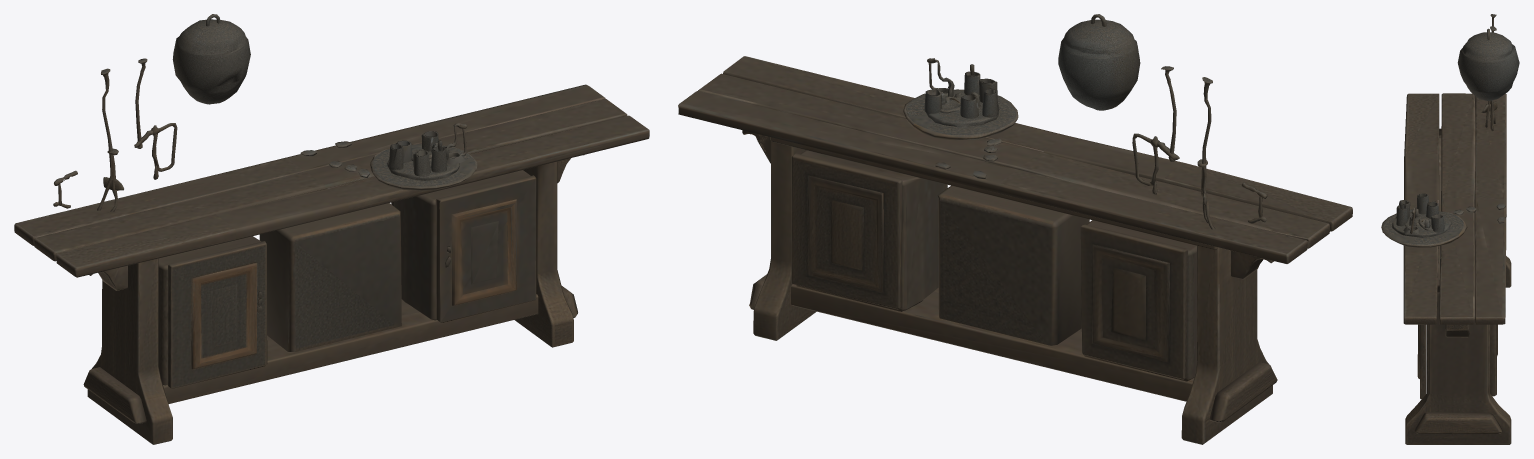
Rendered from atolye.glb.
3 views of the same model, side by side, from view 1: azimuth 30°, elevation 25°; view 2: azimuth 150°, elevation 25°; view 3: azimuth 270°, elevation 25° (orthographic). The views are drawn at different scales.
Bounding box in the file's own units: 0.9561 × 0.585 × 0.2485.
Materials: 1 (1 with a texture image).
